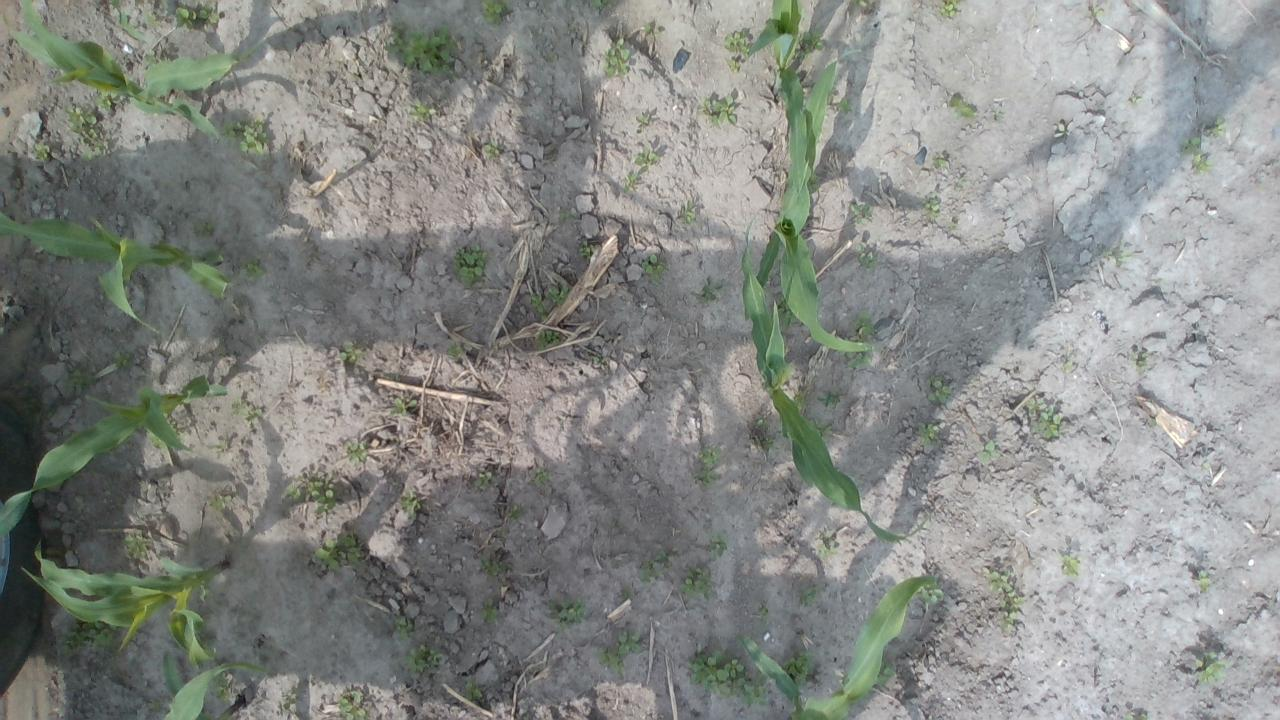Maize: (740, 213, 934, 545), (0, 373, 224, 538), (2, 0, 264, 139), (756, 47, 874, 354), (0, 206, 232, 338), (735, 573, 938, 720), (21, 540, 228, 677), (158, 647, 272, 720), (738, 0, 806, 98), (102, 0, 178, 42)
Weeds: (684, 642, 770, 708), (382, 18, 462, 78), (982, 564, 1024, 633), (56, 615, 120, 659), (62, 106, 111, 162), (595, 630, 644, 682), (217, 115, 270, 158), (314, 536, 363, 572), (450, 243, 489, 288), (544, 596, 586, 636), (696, 93, 740, 130), (780, 645, 816, 687), (1026, 396, 1060, 440), (1180, 135, 1215, 174), (404, 644, 443, 678), (174, 2, 219, 31), (677, 565, 714, 600), (692, 445, 722, 488), (602, 36, 632, 77), (637, 549, 672, 584), (1194, 650, 1230, 684), (308, 472, 337, 514), (63, 366, 99, 395), (230, 397, 264, 426), (337, 689, 368, 720), (692, 276, 724, 306), (794, 28, 824, 60), (478, 0, 514, 26), (925, 373, 953, 405), (772, 294, 798, 326), (642, 254, 668, 286), (92, 86, 125, 110), (724, 29, 751, 58), (1102, 242, 1134, 266), (851, 308, 878, 336), (406, 99, 438, 122), (478, 555, 508, 579), (211, 670, 233, 702), (706, 528, 728, 560), (240, 255, 268, 280), (807, 416, 833, 442), (634, 146, 660, 172), (916, 580, 942, 606), (849, 202, 876, 226), (124, 534, 150, 558), (478, 598, 502, 624), (854, 242, 876, 270), (753, 433, 782, 454), (923, 188, 942, 220), (826, 90, 852, 113), (544, 284, 570, 307), (400, 489, 420, 518), (916, 420, 940, 444), (345, 438, 368, 463), (798, 583, 821, 608), (872, 659, 894, 685), (948, 96, 974, 118), (163, 413, 184, 440), (528, 294, 548, 322), (535, 328, 559, 351), (190, 219, 219, 238), (1060, 552, 1081, 578), (816, 532, 837, 558), (195, 616, 213, 646), (394, 615, 415, 640), (207, 491, 233, 511), (389, 397, 416, 416), (281, 686, 302, 710), (338, 344, 363, 364), (114, 348, 136, 370), (980, 440, 1000, 464), (464, 676, 483, 701), (847, 351, 873, 369), (818, 389, 841, 409), (1130, 350, 1148, 374), (679, 200, 697, 224), (146, 430, 166, 451), (144, 9, 164, 30), (207, 439, 229, 458), (47, 426, 73, 442), (1210, 115, 1228, 138), (936, 0, 960, 17), (622, 172, 640, 194), (284, 485, 306, 503), (634, 114, 653, 133), (143, 46, 162, 65), (32, 143, 50, 163), (484, 139, 500, 161), (446, 340, 462, 362), (1084, 5, 1106, 20), (577, 241, 595, 259), (792, 390, 808, 408), (618, 584, 636, 600), (1196, 570, 1210, 590), (533, 468, 549, 485), (758, 603, 769, 627), (158, 0, 178, 13), (726, 57, 742, 73), (474, 472, 491, 487), (1124, 710, 1148, 720), (754, 412, 769, 428), (592, 354, 607, 370), (932, 154, 948, 168), (642, 22, 662, 33), (44, 404, 58, 419), (589, 0, 609, 10), (1053, 124, 1067, 138), (510, 505, 524, 518), (1130, 95, 1143, 108), (1062, 359, 1074, 372), (146, 699, 160, 710), (850, 0, 869, 8), (993, 106, 1005, 118), (559, 212, 571, 222), (543, 52, 555, 61), (956, 177, 964, 188), (949, 221, 958, 228)
